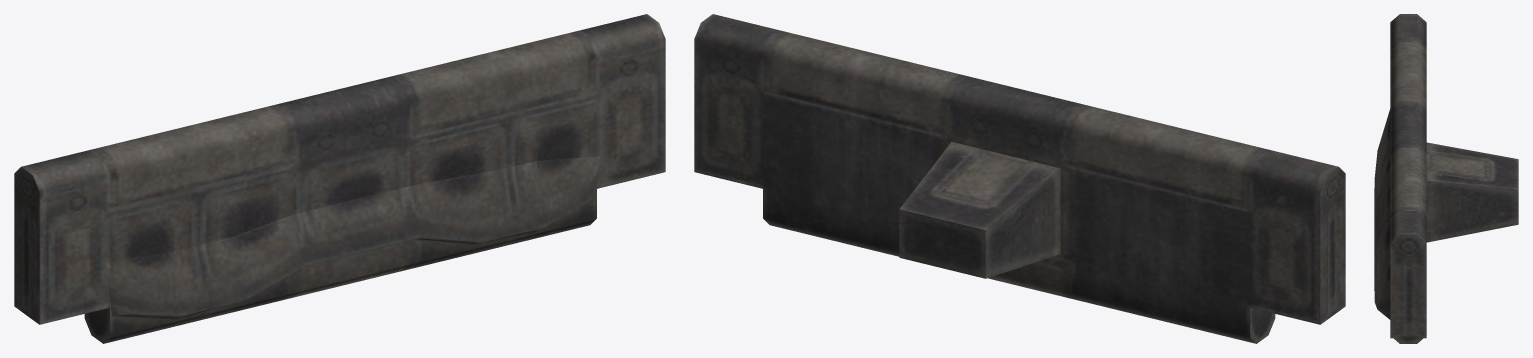
The picture shows the model from 3 angles, left to right: view 1: azimuth 30°, elevation 25°; view 2: azimuth 150°, elevation 25°; view 3: azimuth 270°, elevation 25°; orthographic projection. The views are drawn at different scales.
Visible parts, largest first — view 1: set_0_group_0; view 2: set_0_group_0; view 3: set_0_group_0.
Part boxes in pixels (x1,y1,x2,y2): set_0_group_0: [14, 14, 665, 343]; set_0_group_0: [694, 14, 1345, 343]; set_0_group_0: [1374, 14, 1518, 343].
Size of the model in its own units: 0.5988 by 0.1696 by 0.166.
Materials: 1 (1 with a texture image).
